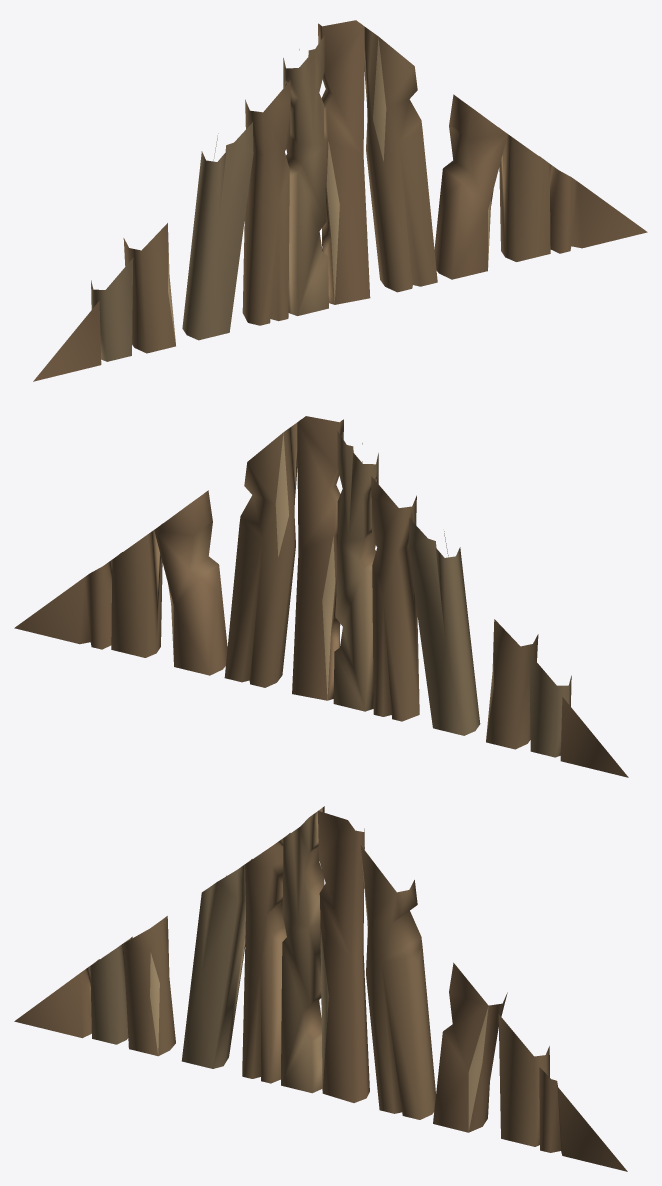
Rendered from rpgpp_av_roof_end_01_6x3_wall_02a.gltf.
3 renders of one model, top to bottom at view 1: azimuth 30°, elevation 25°; view 2: azimuth 150°, elevation 25°; view 3: azimuth 330°, elevation 25°, orthographic.
Parts seen in each view (by area): view 1: rpgpp_av_roof_end_01_6x3_wall_02a; view 2: rpgpp_av_roof_end_01_6x3_wall_02a; view 3: rpgpp_av_roof_end_01_6x3_wall_02a.
Boxes of the visible parts, bbox=[...] form: rpgpp_av_roof_end_01_6x3_wall_02a: bbox=[33, 20, 647, 381]; rpgpp_av_roof_end_01_6x3_wall_02a: bbox=[14, 416, 628, 777]; rpgpp_av_roof_end_01_6x3_wall_02a: bbox=[14, 806, 627, 1171].
Size of the model in its own units: 0.0694 by 0.03 by 0.00388.
Materials: 1 (1 with a texture image).
